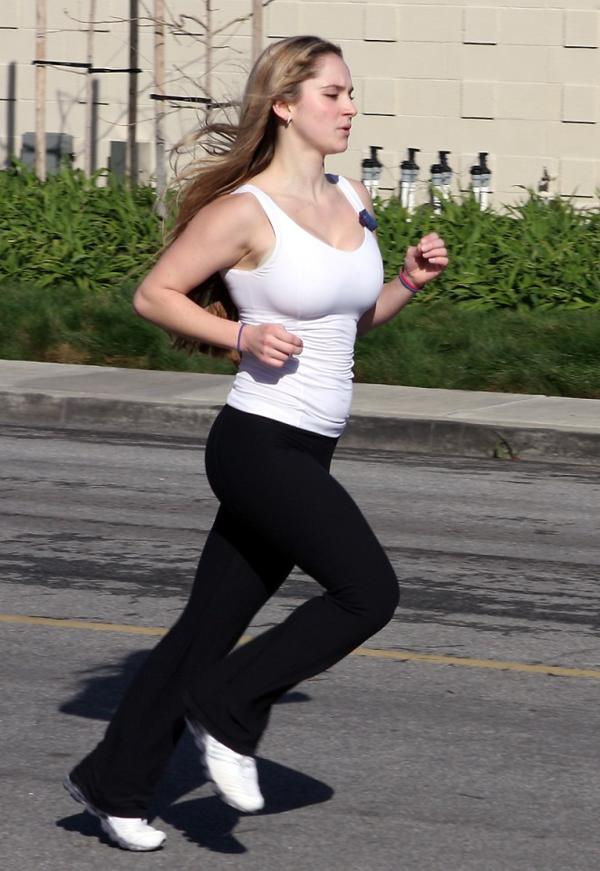person: (63, 34, 446, 851)
